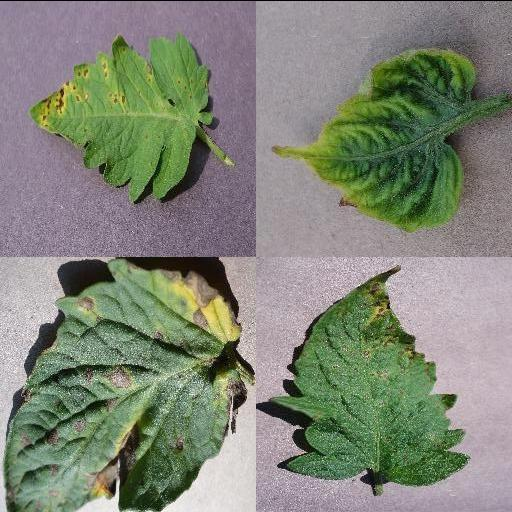Early Blight: (4, 257, 244, 512)
Septoria: (268, 262, 471, 486), (27, 35, 213, 204)
Yellow Leaf Curl Virus: (268, 45, 476, 227)
